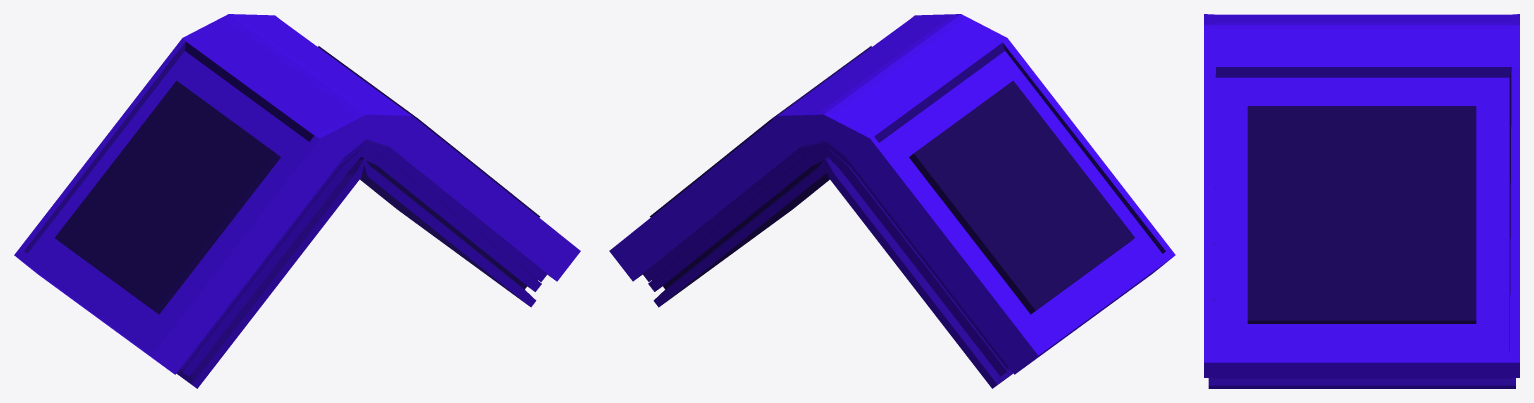
Rendered from FlyBook.fbx.
3 views of the same model, side by side, from view 1: azimuth 30°, elevation 25°; view 2: azimuth 150°, elevation 25°; view 3: azimuth 270°, elevation 25° (orthographic). The views are drawn at different scales.
Parts seen in each view (by area): view 1: Cube; view 2: Cube; view 3: Cube.
Part boxes in pixels (x1,y1,x2,y2): Cube: (14,14,580,388); Cube: (609,14,1175,388); Cube: (1204,14,1519,388).
Size of the model in its own units: 180 by 94.35 by 100.
